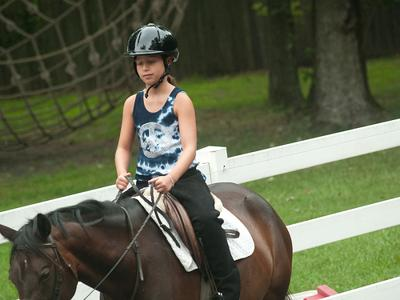person: (114, 22, 242, 300)
